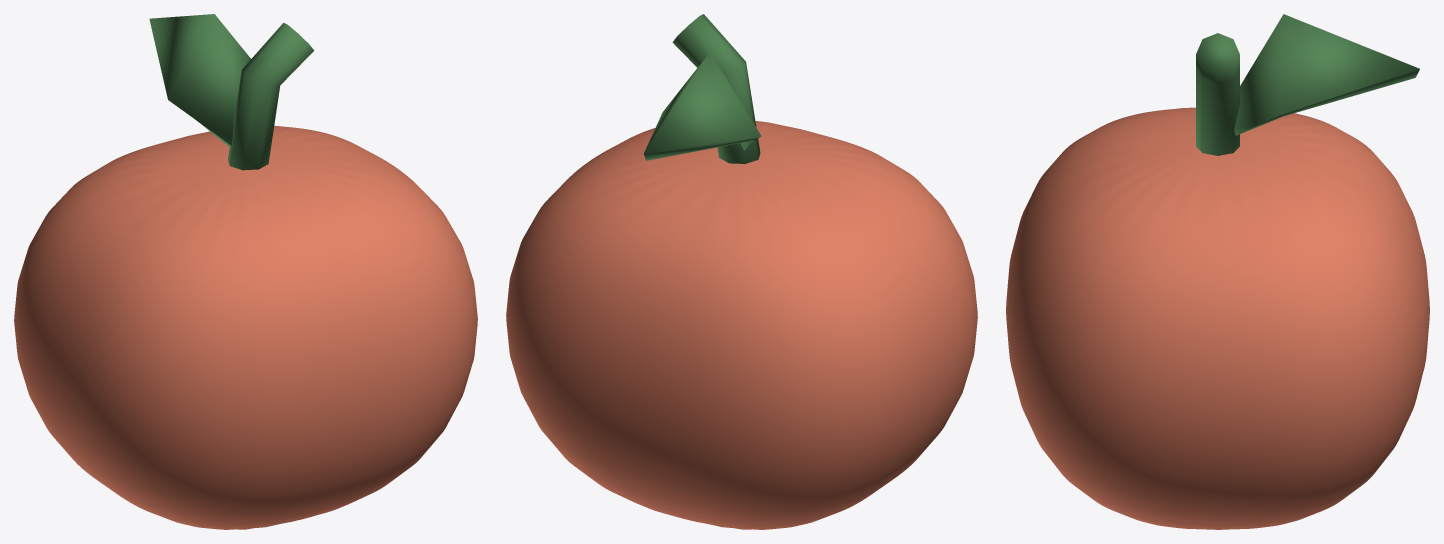
File: produce_apple.glb
3 renders of one model, left to right at view 1: azimuth 30°, elevation 25°; view 2: azimuth 150°, elevation 25°; view 3: azimuth 270°, elevation 25°, orthographic. The views are drawn at different scales.
Parts seen in each view (by area): view 1: produce_apple_crafted_mesh; view 2: produce_apple_crafted_mesh; view 3: produce_apple_crafted_mesh.
Boxes of the visible parts, box(x1,y1,x2,y2) form: produce_apple_crafted_mesh: box(14, 14, 477, 529); produce_apple_crafted_mesh: box(506, 14, 977, 529); produce_apple_crafted_mesh: box(1006, 14, 1429, 529).
Size of the model in its own units: 0.5165 by 0.5972 by 0.4635.
